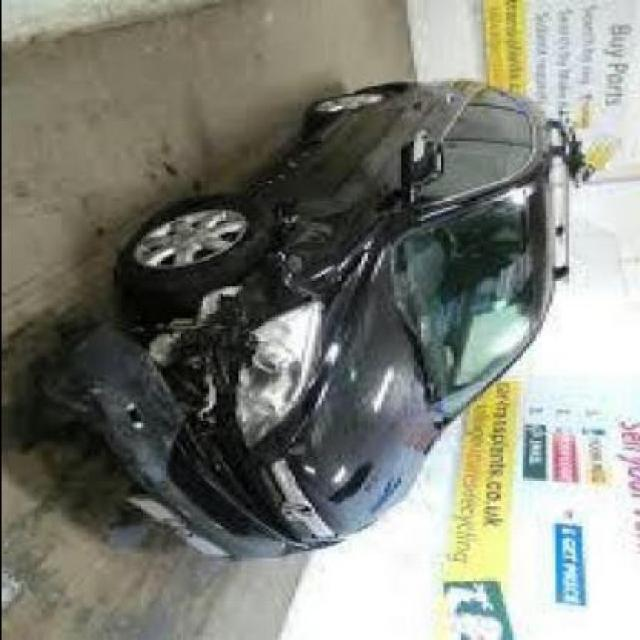damage: (43, 210, 378, 530)
